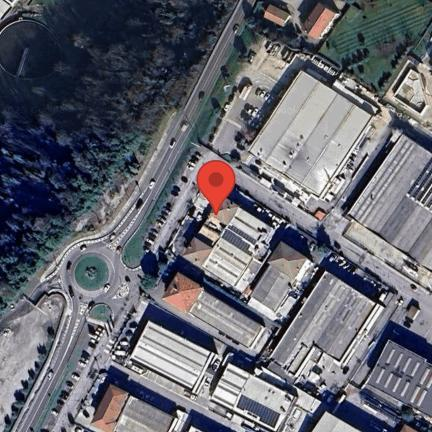area_open: (213, 48, 292, 160), (1, 296, 60, 432)
built: (243, 63, 394, 213), (338, 130, 432, 295), (271, 270, 384, 394), (182, 191, 285, 296), (127, 319, 219, 404), (161, 276, 266, 350), (207, 359, 296, 432), (73, 374, 178, 432), (368, 339, 432, 429), (251, 241, 313, 319), (392, 61, 432, 133), (303, 0, 336, 41), (260, 2, 295, 30), (307, 413, 361, 430)
vegetation_high: (0, 0, 243, 313)
vegetation_low: (320, 0, 432, 95)
